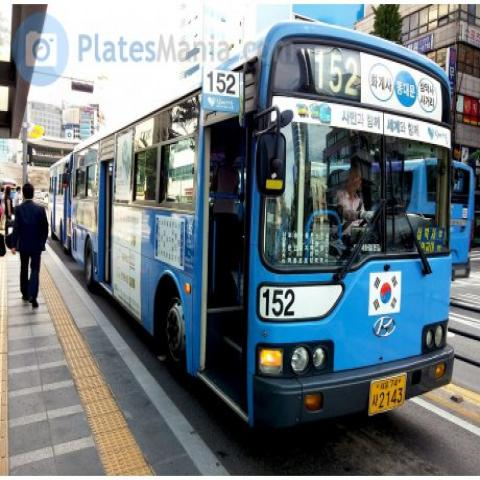LP: (362, 359, 412, 422)
